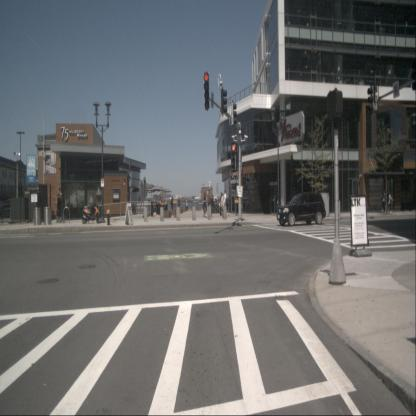human-pedestrian-adult: (386, 189, 394, 214), (56, 194, 62, 224), (222, 189, 227, 219), (202, 191, 207, 217), (60, 192, 64, 223), (381, 188, 386, 212), (219, 193, 224, 217), (207, 191, 211, 218), (177, 196, 181, 215), (171, 195, 174, 217)
vehicle-car: (276, 192, 326, 226), (0, 202, 17, 218)
vehicle-motorcycle: (82, 198, 102, 224)
